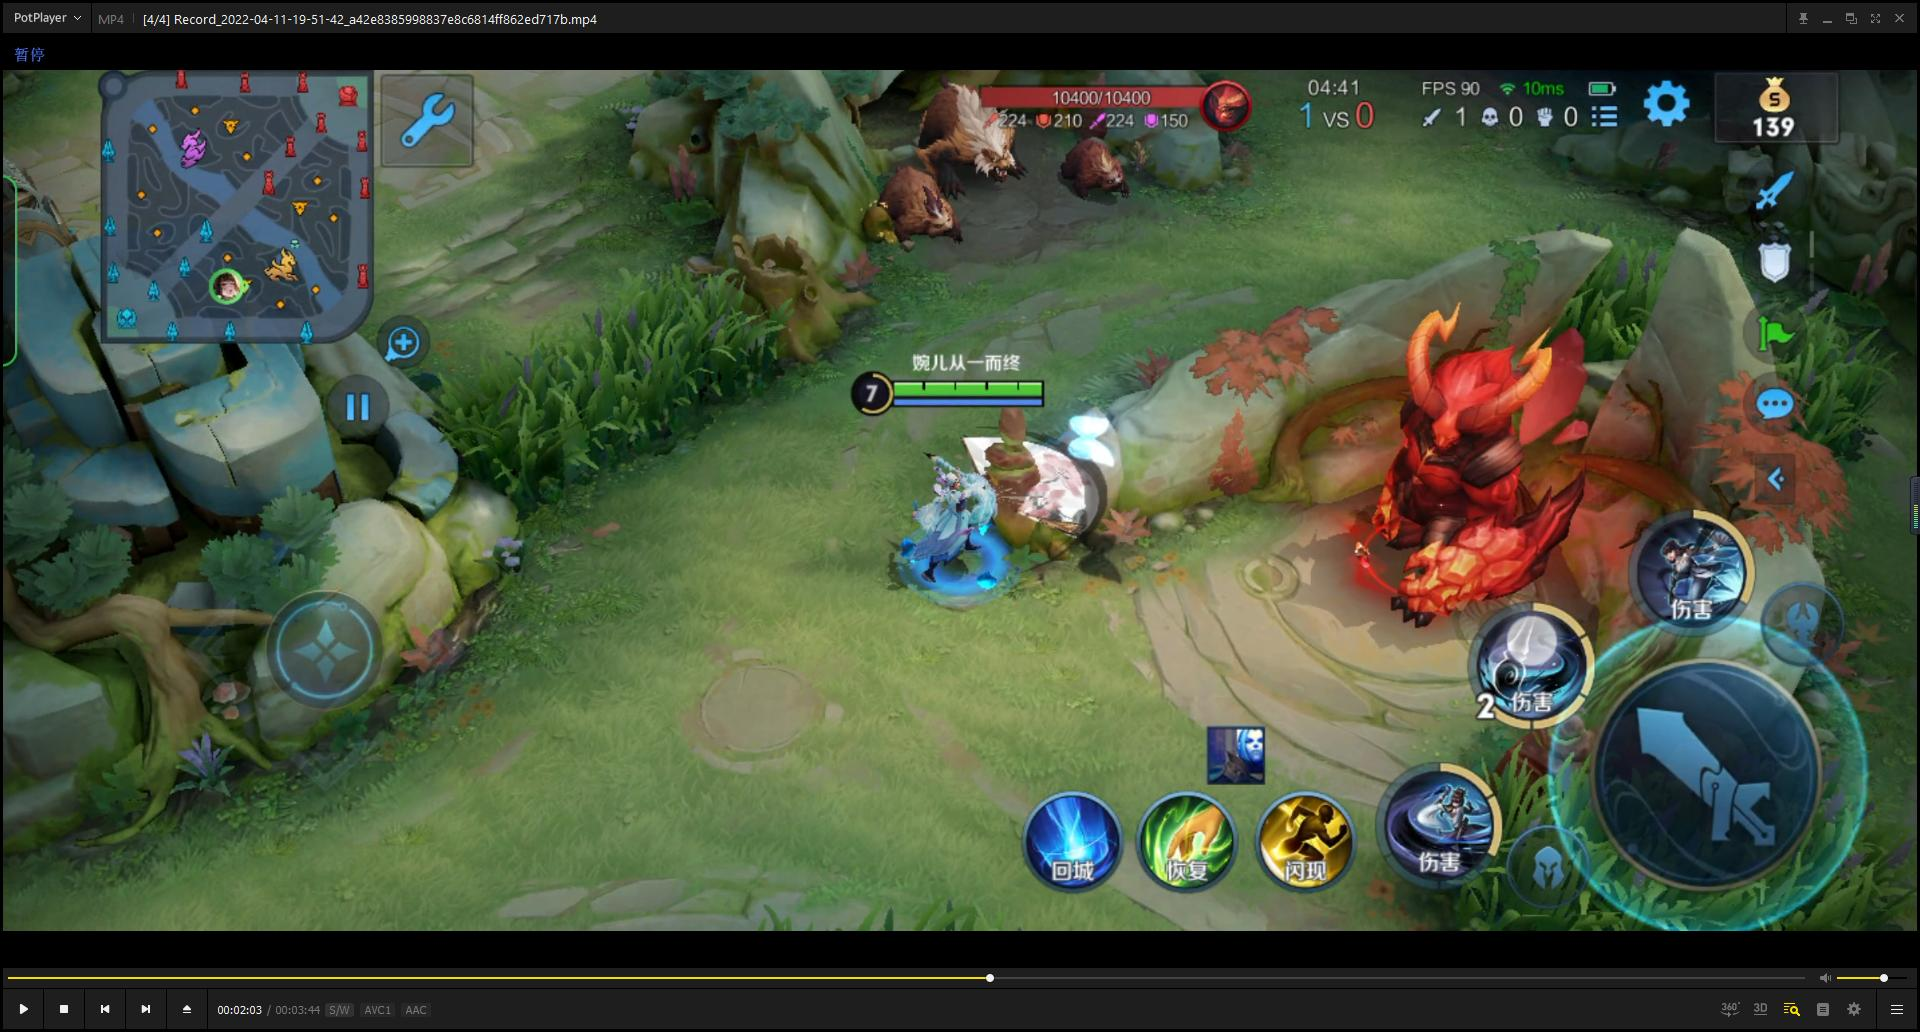Buff: (1335, 294, 1597, 621)
Hero: (860, 433, 1033, 599)
Pig: (868, 137, 999, 291), (1020, 118, 1168, 230), (909, 72, 1028, 207)
